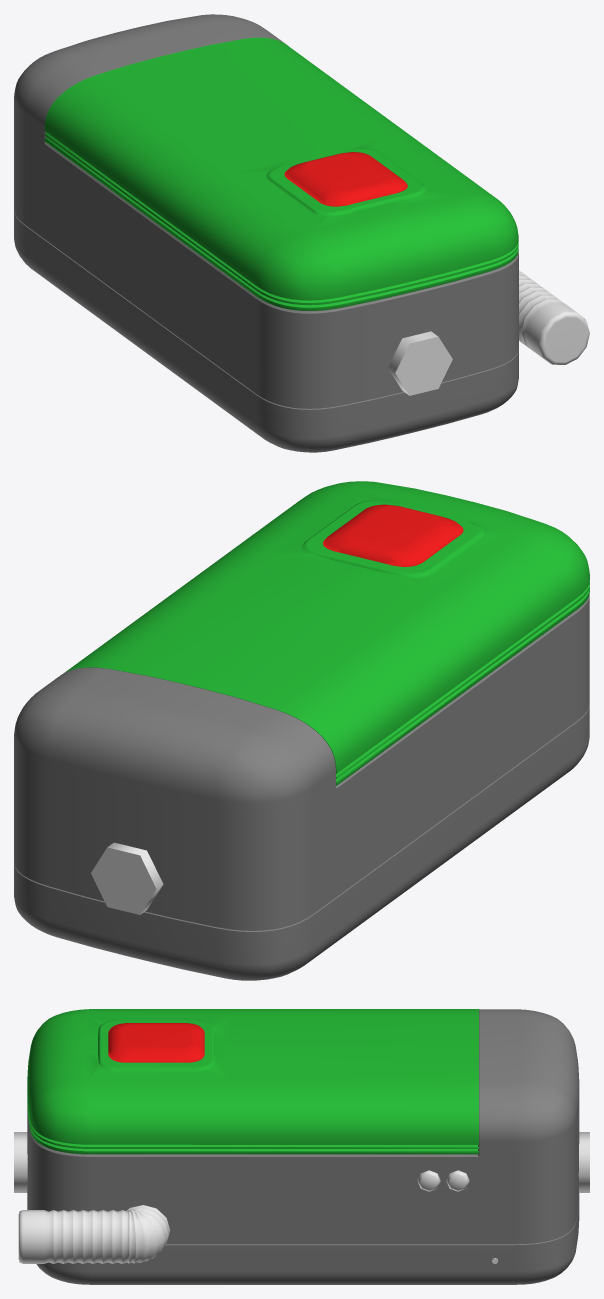
The model's file is CryoPod.fbx.
The picture shows the model from 3 angles, top to bottom: view 1: azimuth 30°, elevation 25°; view 2: azimuth 150°, elevation 25°; view 3: azimuth 270°, elevation 25°; orthographic projection. The views are drawn at different scales.
Visible parts, largest first — view 1: CryoPod02, CryoPod19, CryoPod03, CryoPod12; view 2: CryoPod19, CryoPod02, CryoPod11; view 3: CryoPod19, CryoPod02, CryoPod03, CryoPod12, CryoPod11, CryoPod01, CryoPod00.
Boxes of the visible parts, x1=… form: CryoPod02: x1=44, y1=37, x2=518, y2=310; CryoPod19: x1=14, y1=14, x2=518, y2=452; CryoPod03: x1=519, y1=270, x2=589, y2=364; CryoPod12: x1=388, y1=331, x2=452, y2=395; CryoPod19: x1=14, y1=595, x2=589, y2=980; CryoPod02: x1=64, y1=481, x2=589, y2=785; CryoPod11: x1=91, y1=842, x2=163, y2=914; CryoPod19: x1=27, y1=1009, x2=579, y2=1284; CryoPod02: x1=27, y1=1009, x2=478, y2=1154; CryoPod03: x1=18, y1=1205, x2=170, y2=1263; CryoPod12: x1=14, y1=1132, x2=27, y2=1192; CryoPod11: x1=578, y1=1132, x2=589, y2=1192; CryoPod01: x1=417, y1=1170, x2=440, y2=1191; CryoPod00: x1=446, y1=1170, x2=469, y2=1191.
Bounding box in the file's own units: 160 × 115 × 294.
